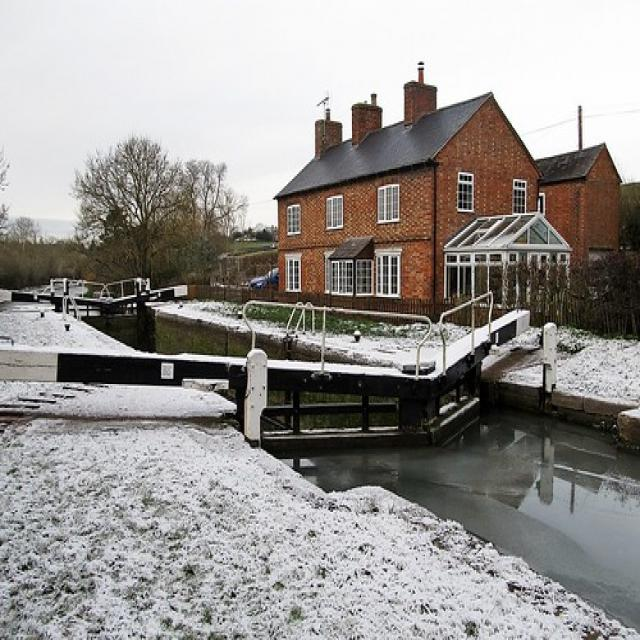Normal_building: (270, 70, 626, 326), (444, 212, 572, 310)
